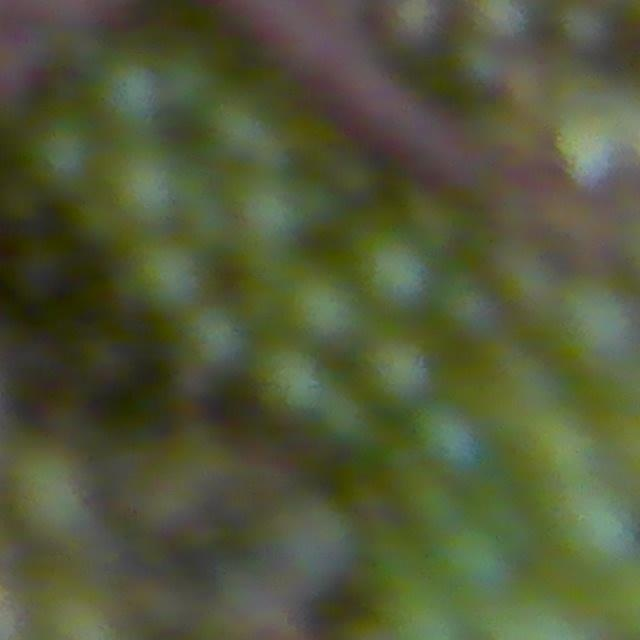SeaGrape: (6, 440, 103, 545), (263, 491, 366, 589), (342, 219, 427, 314), (553, 481, 634, 579), (220, 168, 306, 257), (405, 396, 490, 482), (555, 281, 640, 363), (352, 326, 431, 410), (435, 519, 516, 598), (100, 147, 180, 223), (282, 268, 357, 349), (21, 119, 97, 194), (247, 340, 322, 416), (115, 237, 193, 308), (167, 311, 244, 376), (90, 57, 160, 128), (429, 275, 497, 343), (202, 98, 262, 166), (154, 56, 205, 115), (320, 392, 371, 438)
